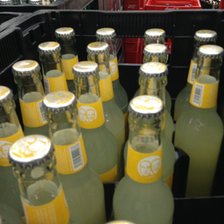soda: (112, 96, 173, 223), (175, 45, 224, 201), (70, 60, 119, 179)
